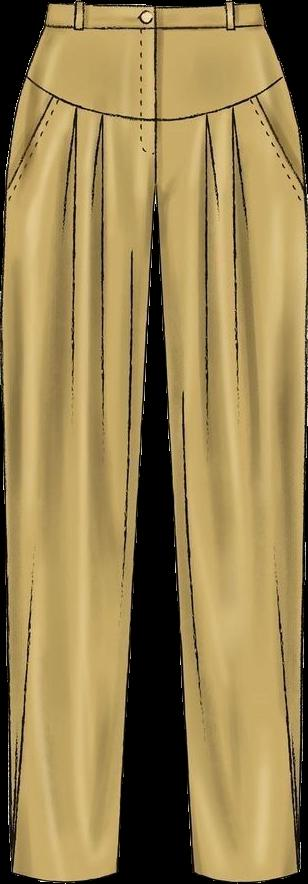Hemline: (10, 861, 118, 883), (193, 864, 303, 883)
Pantleg: (2, 0, 158, 881), (156, 0, 305, 881)
Waistline: (23, 72, 286, 127), (38, 19, 267, 39), (47, 0, 261, 15)
